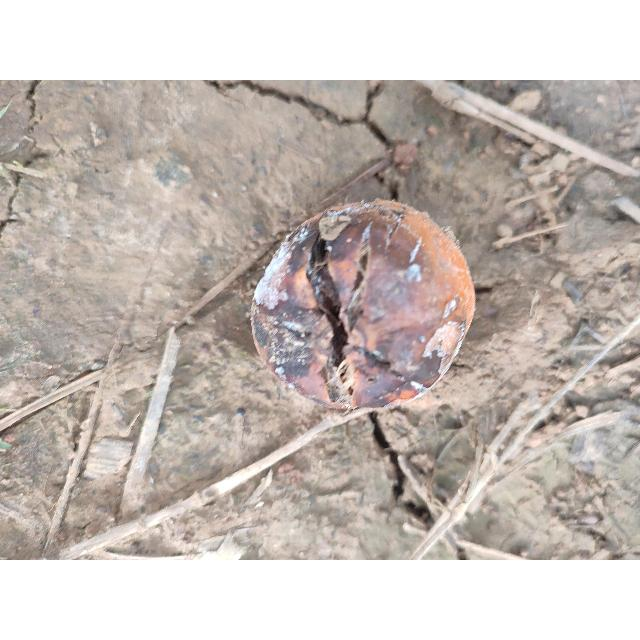damaged: (249, 199, 477, 412)
